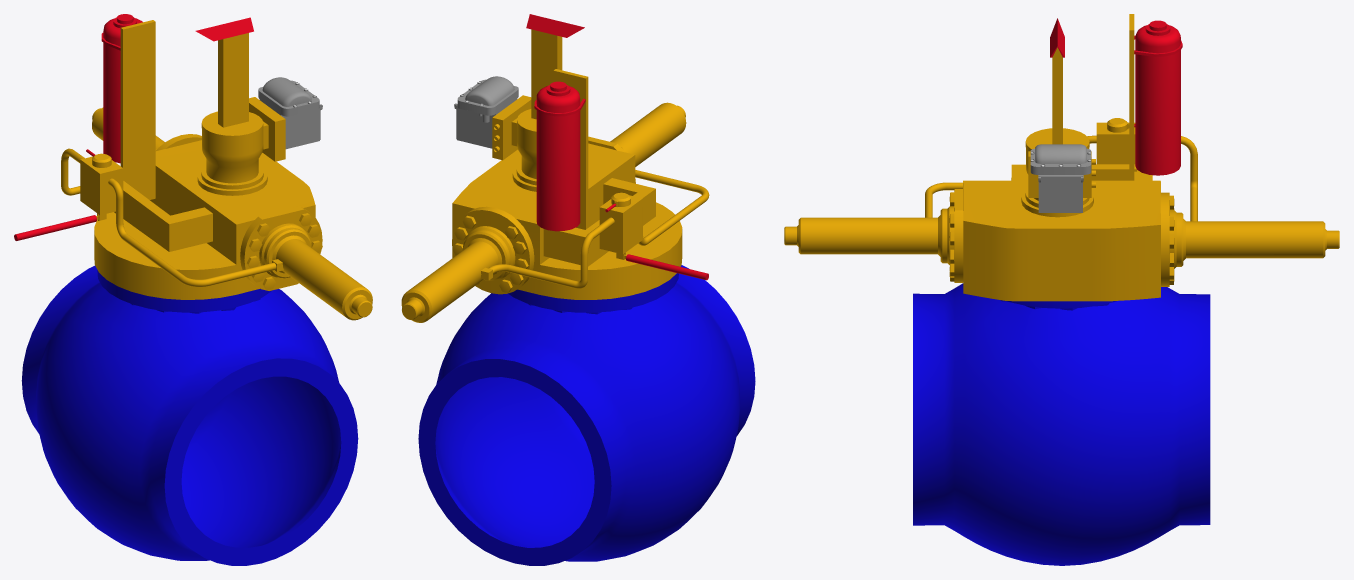
File: Ball_valve.fbx
The picture shows the model from 3 angles, left to right: view 1: azimuth 30°, elevation 25°; view 2: azimuth 150°, elevation 25°; view 3: azimuth 270°, elevation 25°; orthographic projection. The views are drawn at different scales.
Parts seen in each view (by area): view 1: Pushka.001, Pushka.002, Cube.001; view 2: Pushka.001, Pushka.002, Cube.001; view 3: Pushka.001, Pushka.002.
Part boxes in pixels (left/top/right/bottom): Pushka.001: left=21, top=14, right=372, bottom=565; Pushka.002: left=195, top=17, right=263, bottom=140; Cube.001: left=14, top=213, right=106, bottom=240; Pushka.001: left=401, top=69, right=755, bottom=565; Pushka.002: left=517, top=14, right=584, bottom=136; Cube.001: left=616, top=252, right=708, bottom=280; Pushka.001: left=784, top=14, right=1339, bottom=565; Pushka.002: left=1025, top=18, right=1089, bottom=151.
Size of the model in its own units: 119 by 211 by 198.
